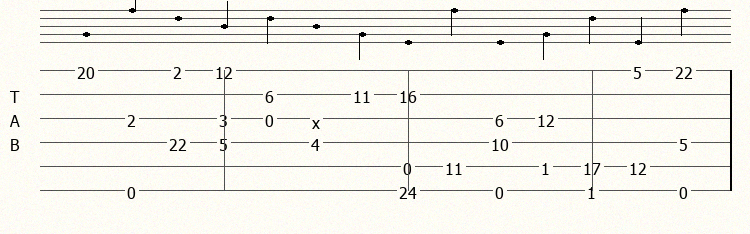0: (127, 182, 140, 198), (265, 110, 278, 126), (403, 158, 416, 174), (495, 182, 508, 198), (679, 182, 692, 198)
1: (541, 158, 554, 174), (587, 182, 600, 198)
10: (491, 134, 513, 150)
11: (353, 86, 375, 102), (445, 158, 467, 174)
12: (215, 62, 237, 78), (537, 110, 559, 126), (629, 158, 651, 174)
16: (399, 86, 421, 102)
17: (583, 158, 605, 174)
2: (127, 110, 140, 126), (173, 62, 186, 78)
20: (77, 62, 99, 78)
22: (169, 134, 191, 150), (675, 62, 697, 78)
24: (399, 182, 421, 198)
3: (219, 110, 232, 126)
4: (311, 134, 324, 150)
5: (219, 134, 232, 150), (633, 62, 646, 78), (679, 134, 692, 150)
6: (265, 86, 278, 102), (495, 110, 508, 126)
x: (312, 112, 324, 125)
